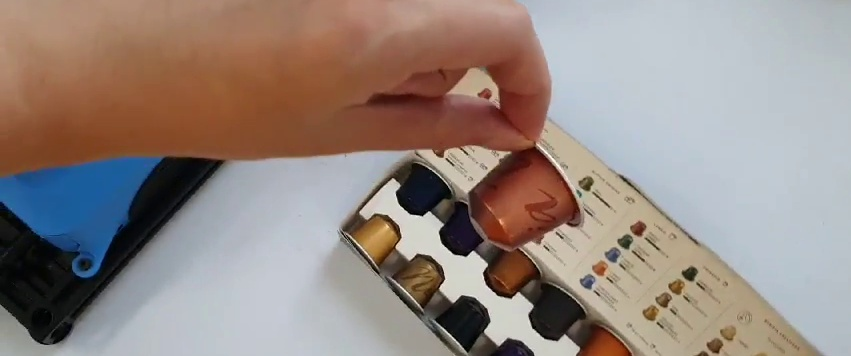capsule_6: (464, 140, 586, 254)
